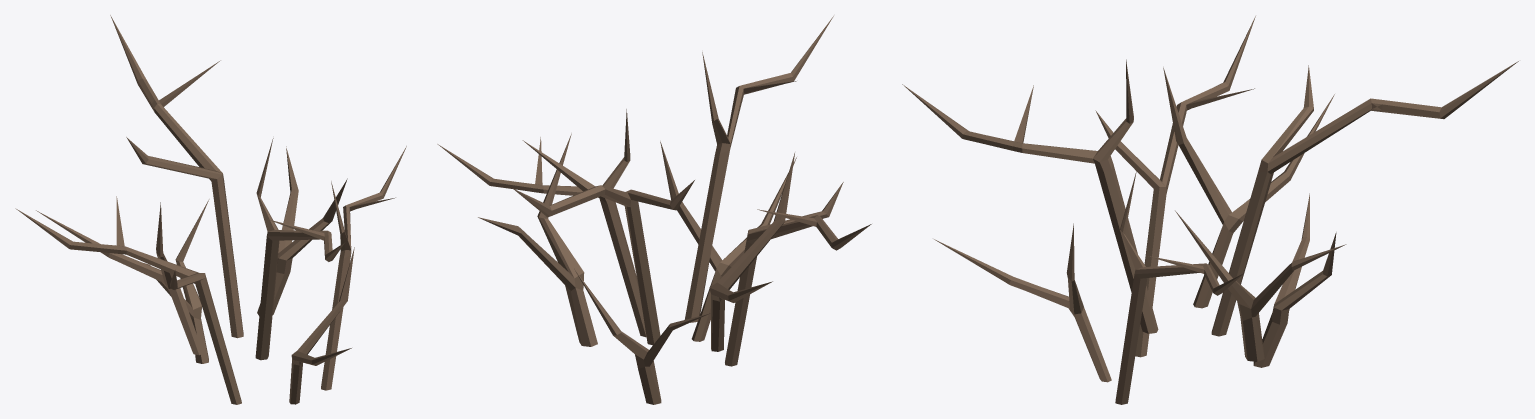
File: Bare_bush_3.fbx
The picture shows the model from 3 angles, left to right: view 1: azimuth 30°, elevation 25°; view 2: azimuth 150°, elevation 25°; view 3: azimuth 270°, elevation 25°; orthographic projection. The views are drawn at different scales.
Visible parts, largest first — view 1: Bare_bush_3; view 2: Bare_bush_3; view 3: Bare_bush_3.
Part boxes in pixels (x1=…): Bare_bush_3: x1=15, y1=15, x2=406, y2=404; Bare_bush_3: x1=437, y1=16, x2=871, y2=404; Bare_bush_3: x1=902, y1=16, x2=1518, y2=404.
Bounding box in the file's own units: 86.62 × 100 × 56.18.
